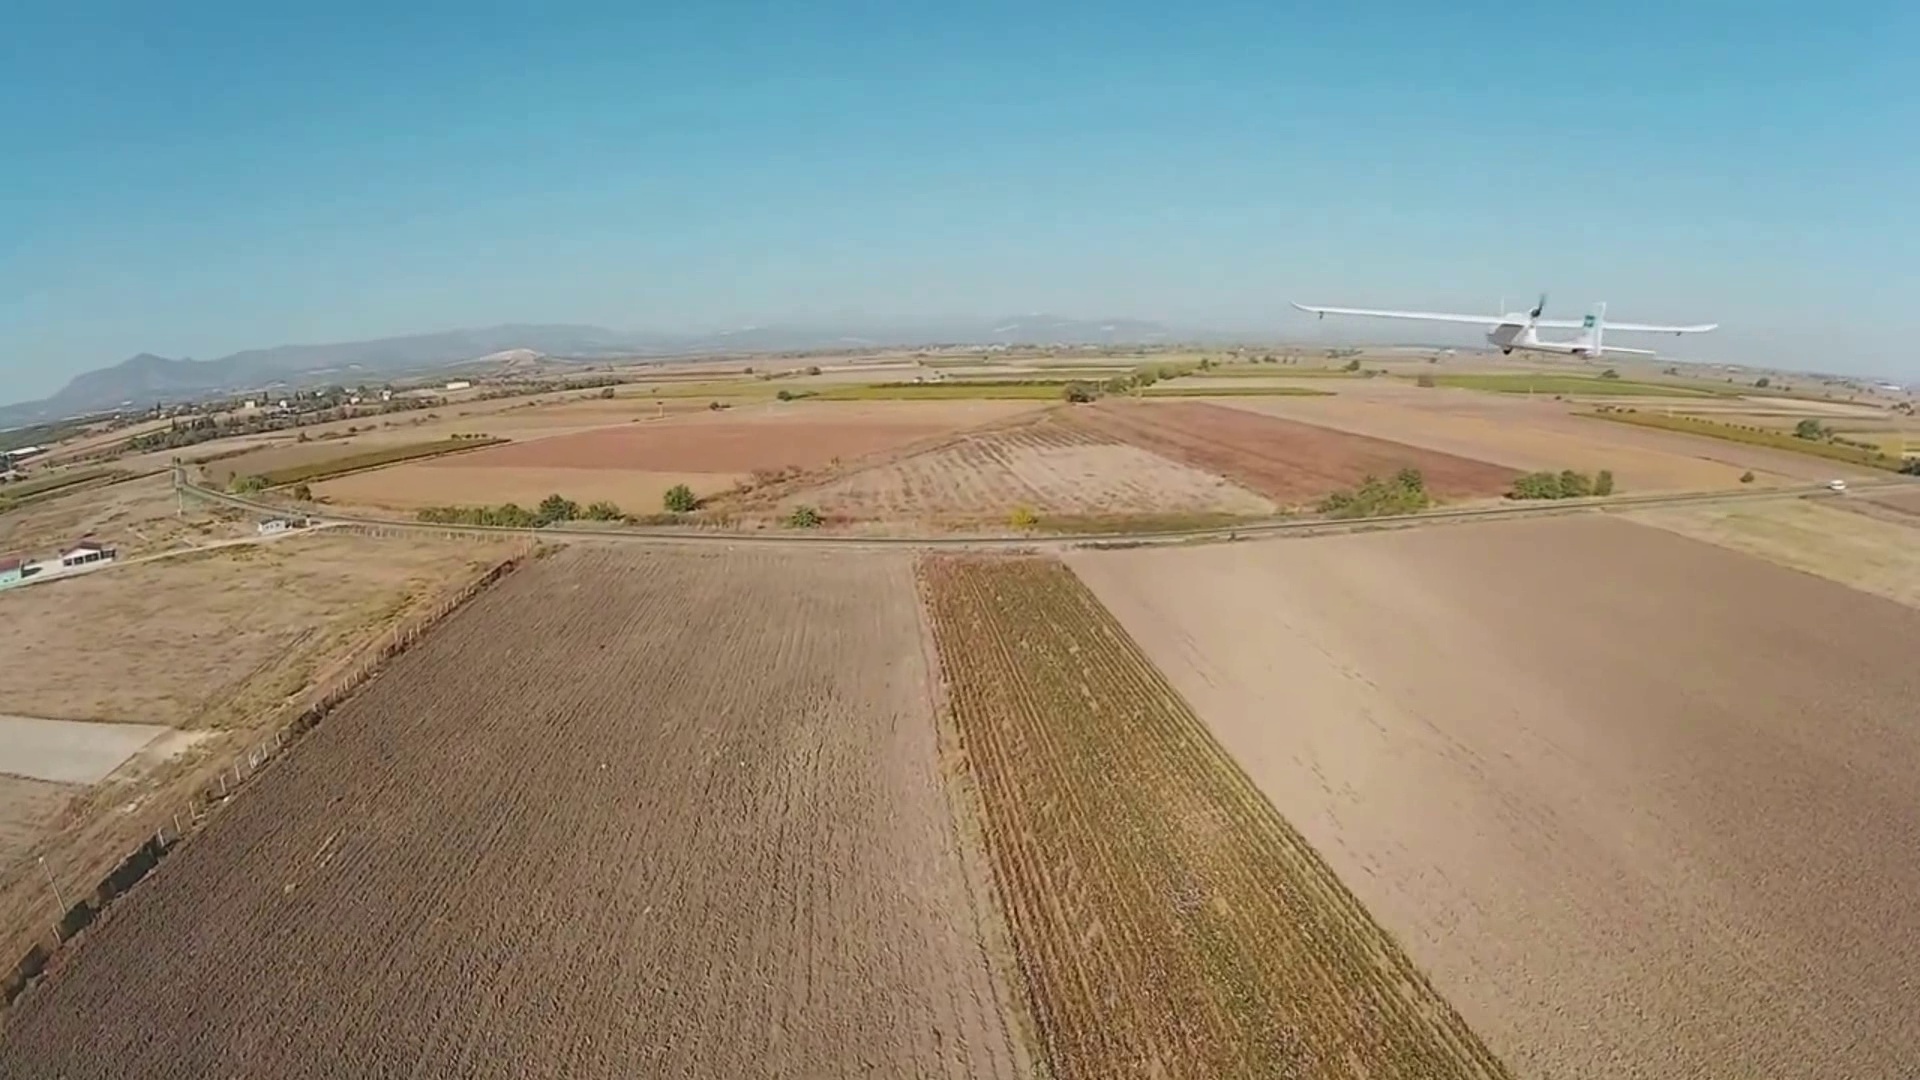airplane: (1291, 288, 1721, 361), (1287, 289, 1607, 357)
